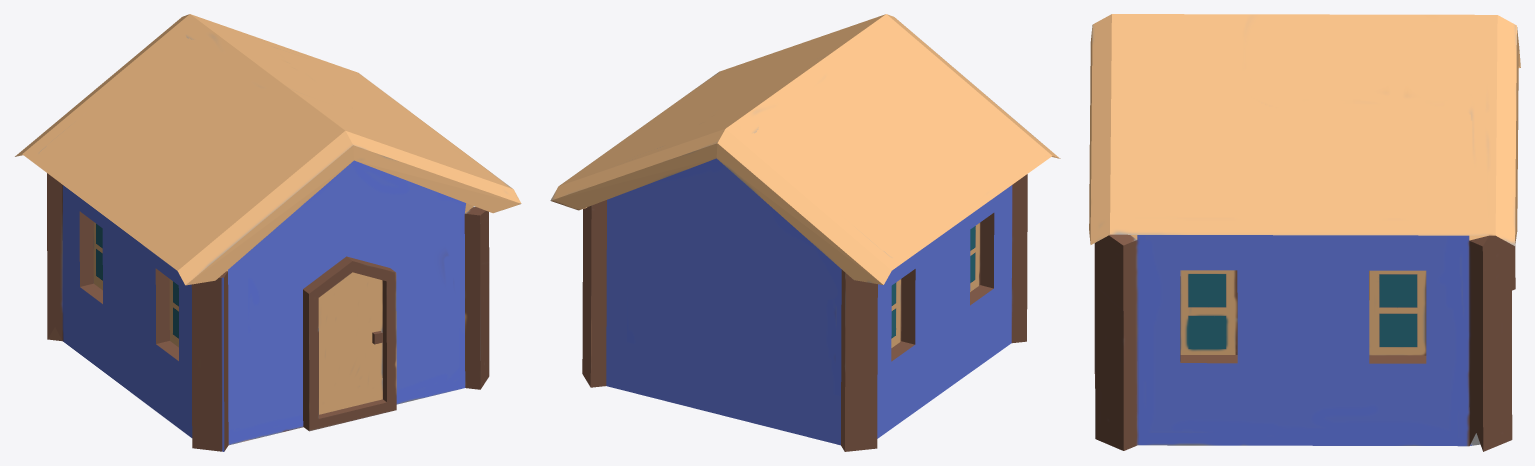
The model's file is house 1.fbx.
3 views of the same model, side by side, from view 1: azimuth 30°, elevation 25°; view 2: azimuth 150°, elevation 25°; view 3: azimuth 270°, elevation 25° (orthographic). The views are drawn at different scales.
Parts seen in each view (by area): view 1: House 1; view 2: House 1; view 3: House 1.
Boxes of the visible parts, x1,y1,x2,y2 form: House 1: (15, 14, 521, 451); House 1: (550, 14, 1060, 451); House 1: (1089, 14, 1520, 451).
Size of the model in its own units: 927 by 754 by 842.
